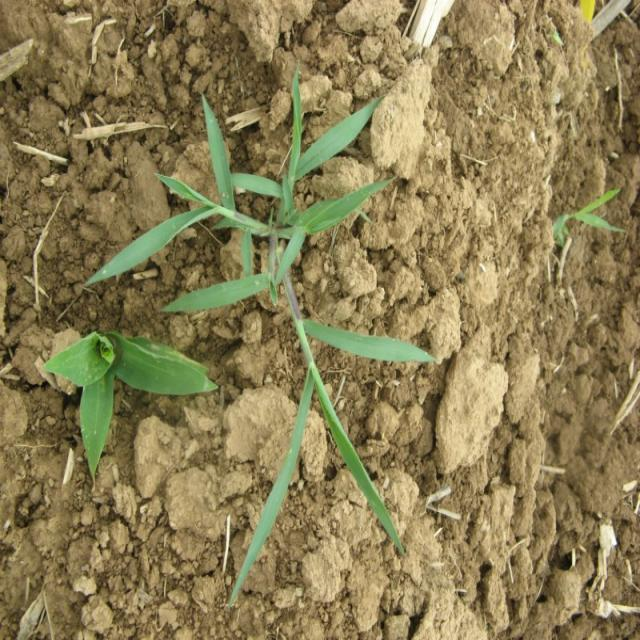bg: (89, 79, 437, 601)
